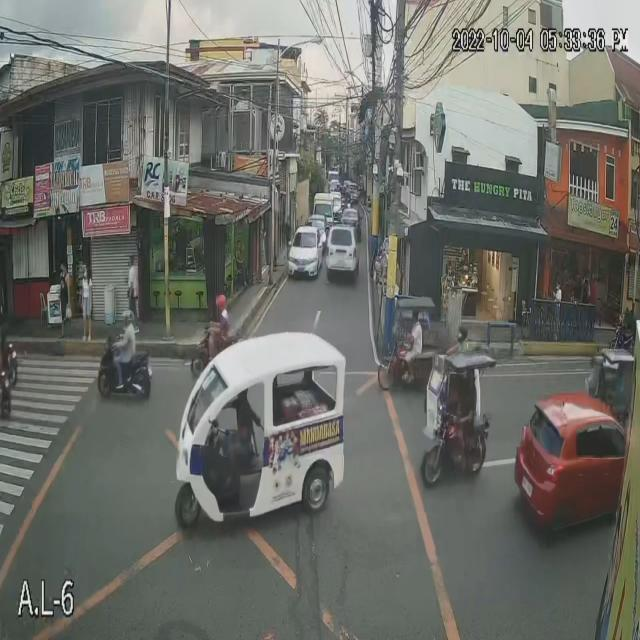full: (454, 324, 469, 346)
half: (214, 294, 228, 312)
